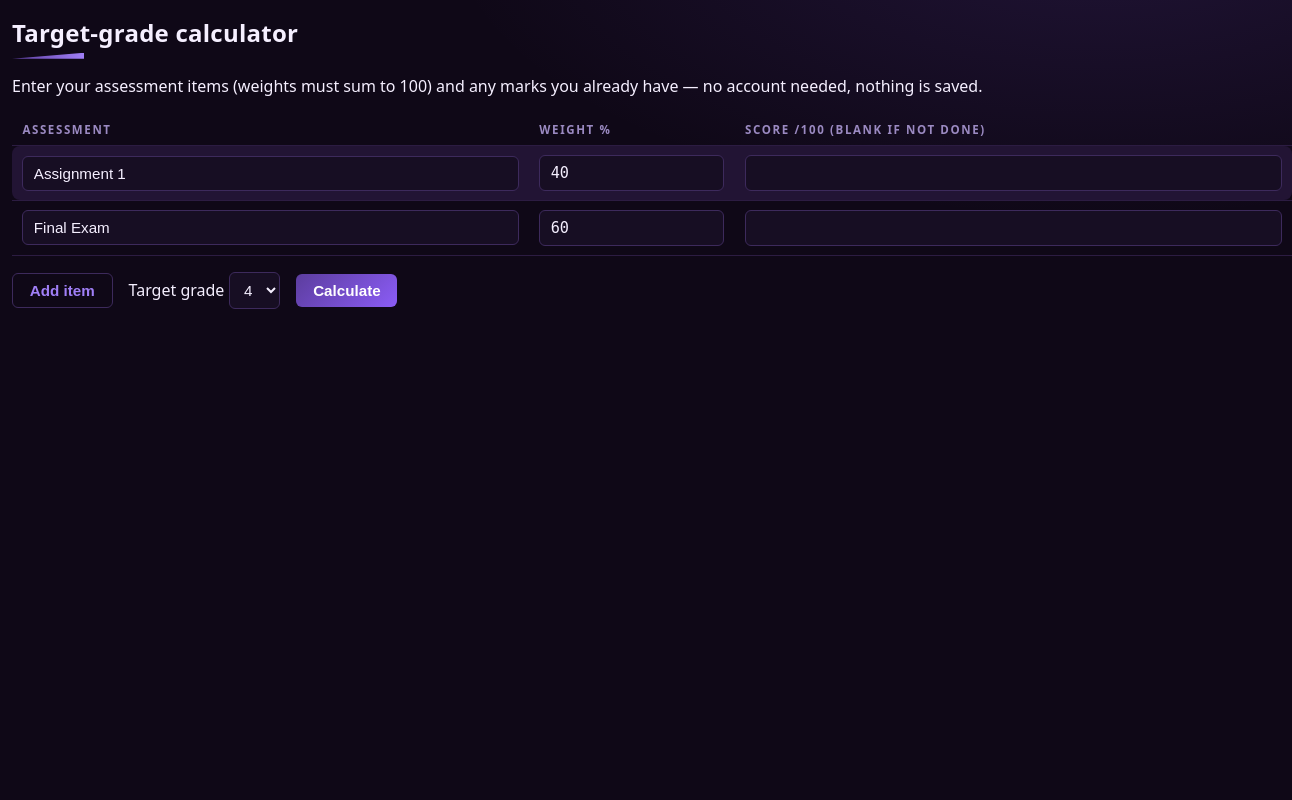
Test: surfaces hurdle warnings prominently
This screenshot has width=1292, height=800.
Click the button "Calculate".
click(347, 290)  # box [296, 274, 397, 306]
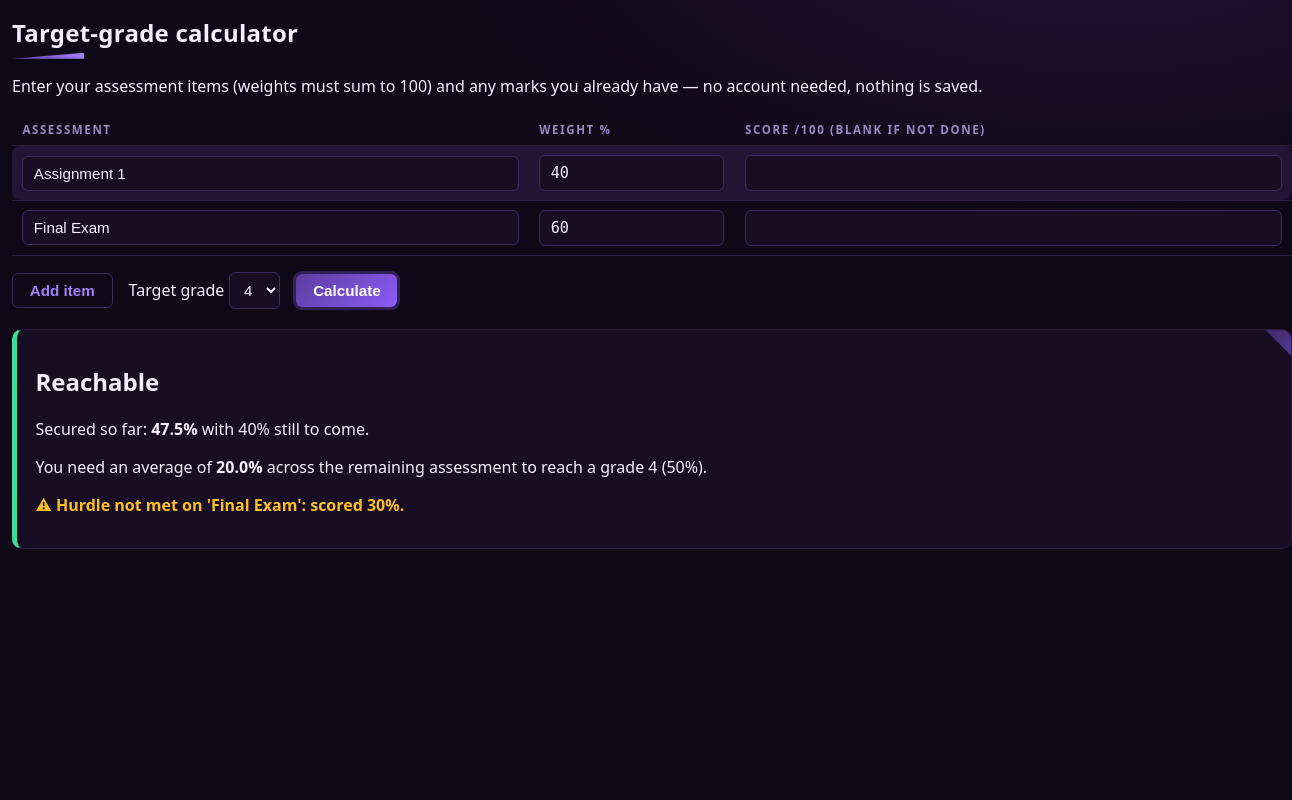
Check: the text "⚠ Hurdle not met on 'Final Exam': scored 30%." is shown, box [35, 494, 404, 516]
